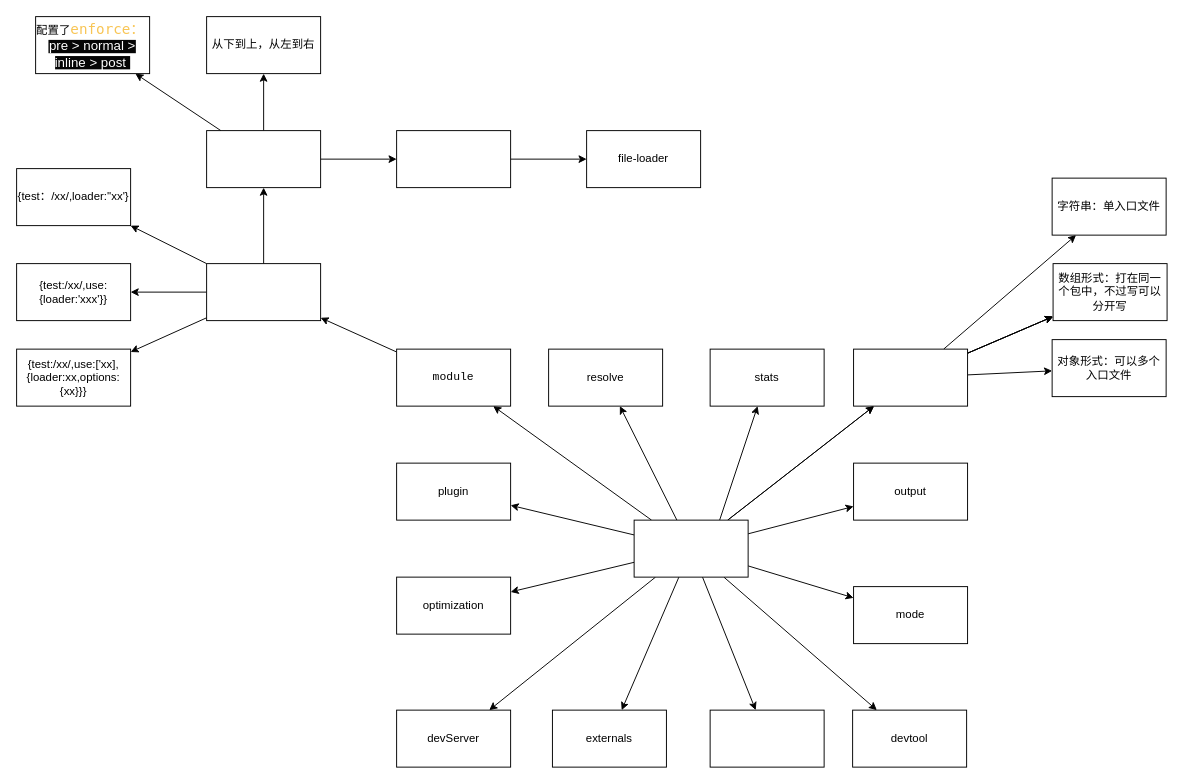
The diagram is 1184 pixels wide and 784 high, and some of its shapes have lost their labels. The centre of each missing label's shape, as x and y in pixels:
"entry" goes at [910,377].
"loader执行" goes at [263,159].
"rules" goes at [263,292].
"webpack" goes at [690,548].
"常见loader" goes at [453,159].
